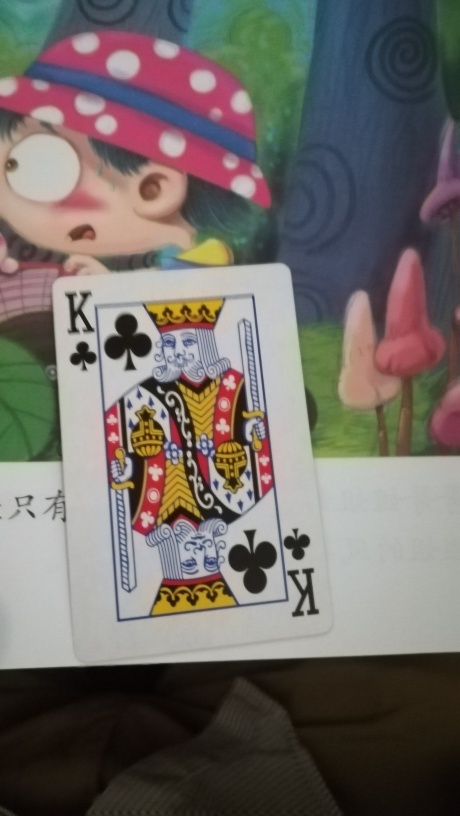mh k: (50, 261, 331, 661)
